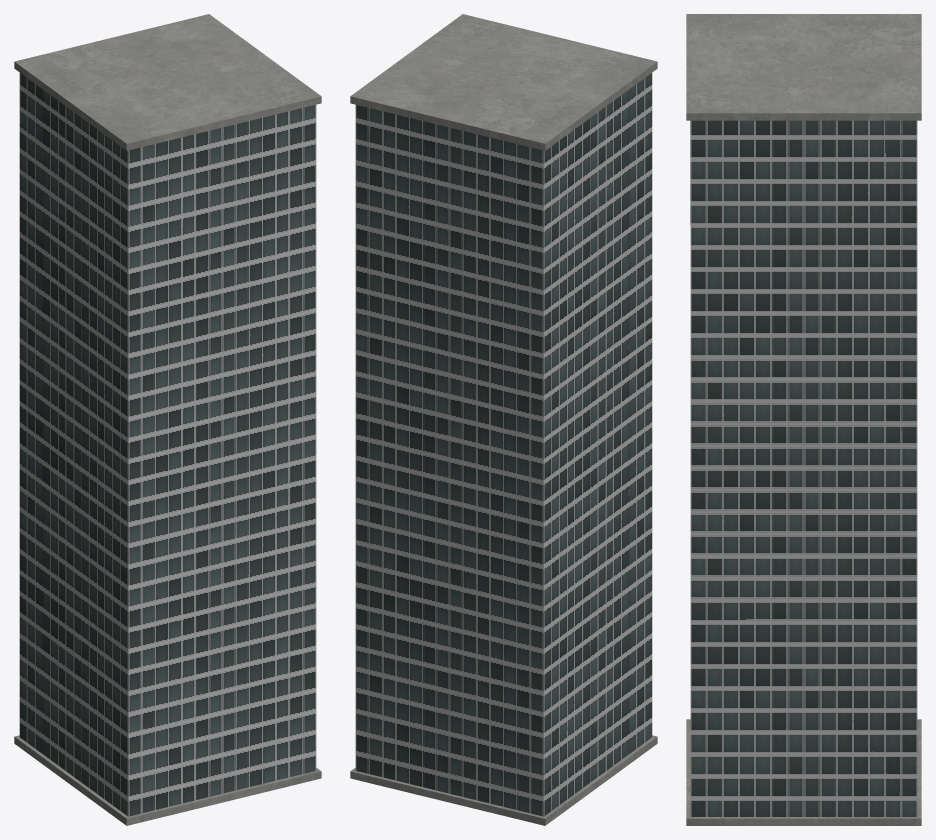
Rendered from building_03.1.glb.
3 views of the same model, side by side, from view 1: azimuth 30°, elevation 25°; view 2: azimuth 150°, elevation 25°; view 3: azimuth 270°, elevation 25° (orthographic). The views are drawn at different scales.
Visible parts, largest first — view 1: building_03_12; view 2: building_03_12; view 3: building_03_12.
Part boxes in pixels (x1=…): building_03_12: x1=14, y1=14, x2=321, y2=825; building_03_12: x1=350, y1=14, x2=657, y2=825; building_03_12: x1=686, y1=14, x2=921, y2=825.
Size of the model in its own units: 29 by 97 by 29.
Materials: 1 (1 with a texture image).
